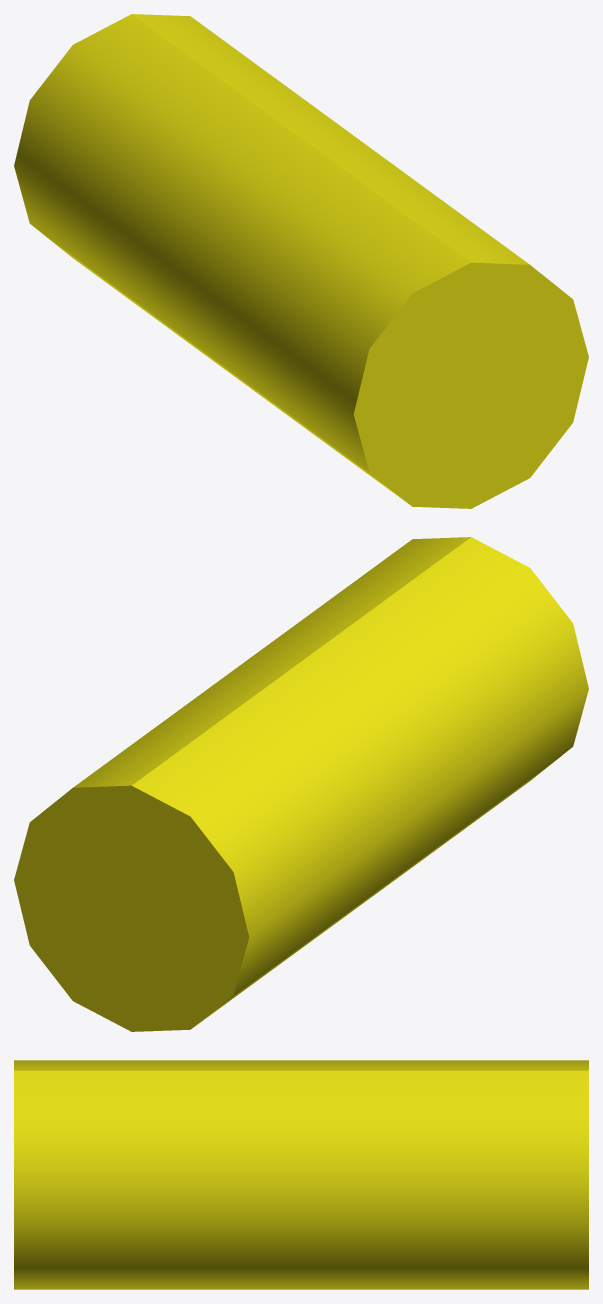
Rendered from Pipe3.fbx.
3 renders of one model, top to bottom at view 1: azimuth 30°, elevation 25°; view 2: azimuth 150°, elevation 25°; view 3: azimuth 270°, elevation 25°, orthographic. The views are drawn at different scales.
Parts seen in each view (by area): view 1: Pipe3; view 2: Pipe3; view 3: Pipe3.
Part boxes in pixels (bbox=[...]): Pipe3: bbox=[14, 14, 588, 508]; Pipe3: bbox=[14, 537, 588, 1031]; Pipe3: bbox=[14, 1060, 588, 1289].
Size of the model in its own units: 40 by 40 by 100.
